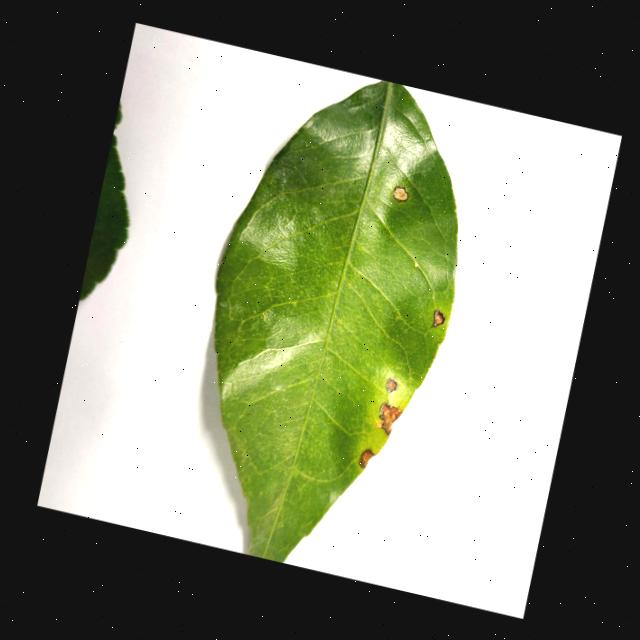antracnose: (214, 81, 457, 562), (376, 404, 400, 434), (359, 450, 373, 468), (392, 186, 407, 201), (431, 310, 444, 327), (385, 378, 397, 392), (359, 449, 365, 453)
